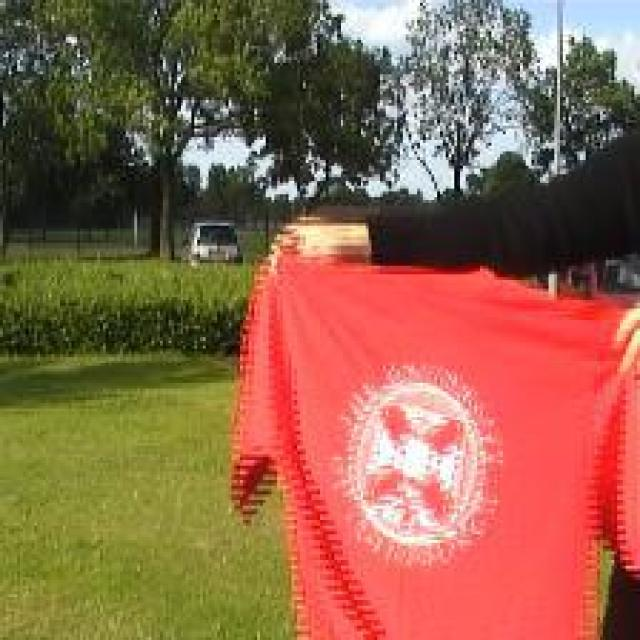other: (235, 242, 634, 628)
